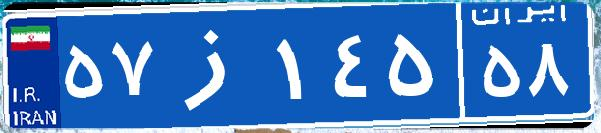1: (273, 28, 330, 110)
4: (330, 28, 385, 110)
5: (385, 28, 445, 110), (57, 26, 110, 107), (475, 38, 525, 113)
7: (110, 28, 158, 105)
8: (525, 38, 570, 115)
ز: (158, 15, 273, 115)
